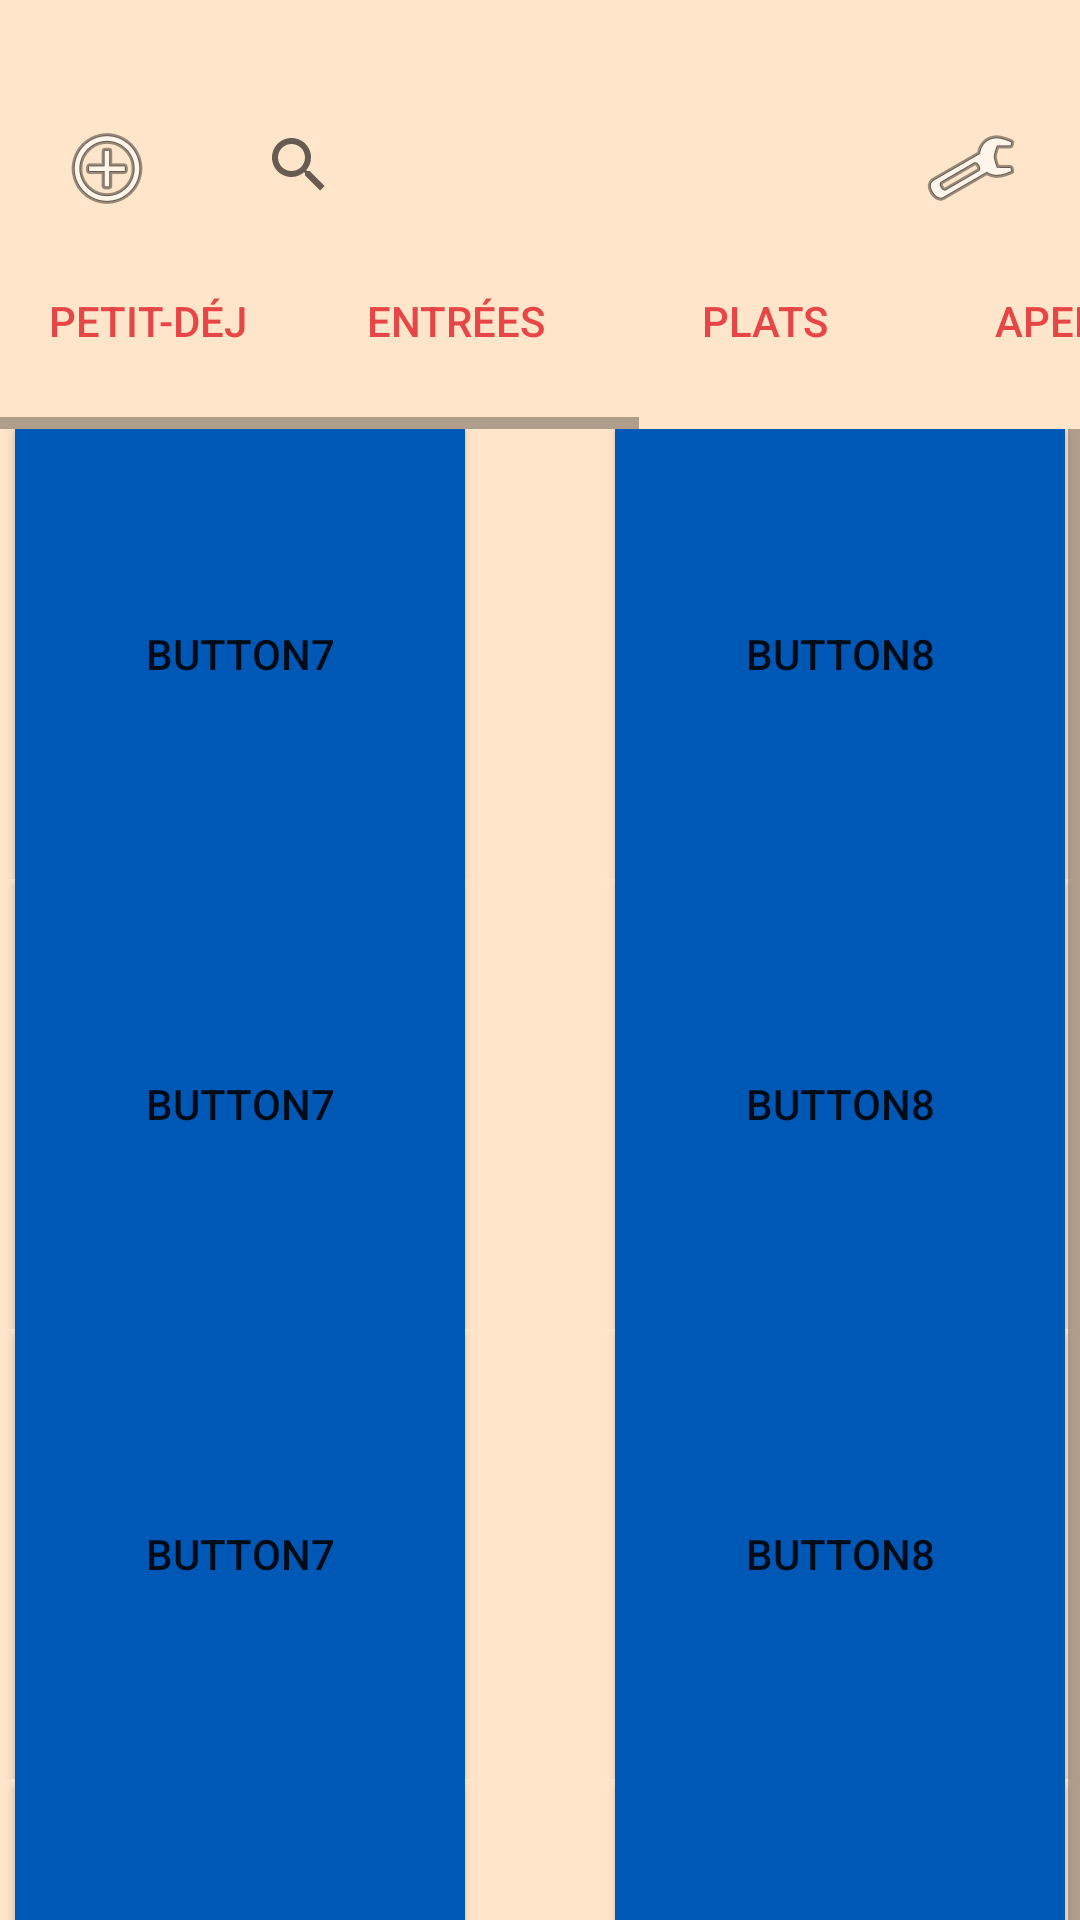

Icon bounding boxes for this 1080px x 1920px phone screenshot, format (x1, y1, x2, y2):
add: (71, 133, 143, 204)
manage: (928, 135, 1014, 201)
